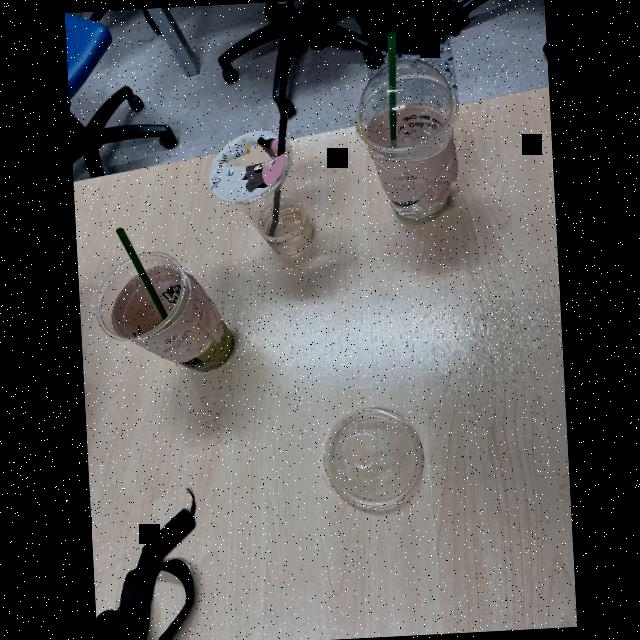plastic_cup: (90, 248, 239, 384), (204, 127, 318, 267), (359, 74, 460, 228)
plastic_cup_lid: (313, 402, 430, 516), (351, 51, 455, 156)
straw: (113, 225, 174, 329), (267, 99, 291, 235), (385, 30, 397, 154)
